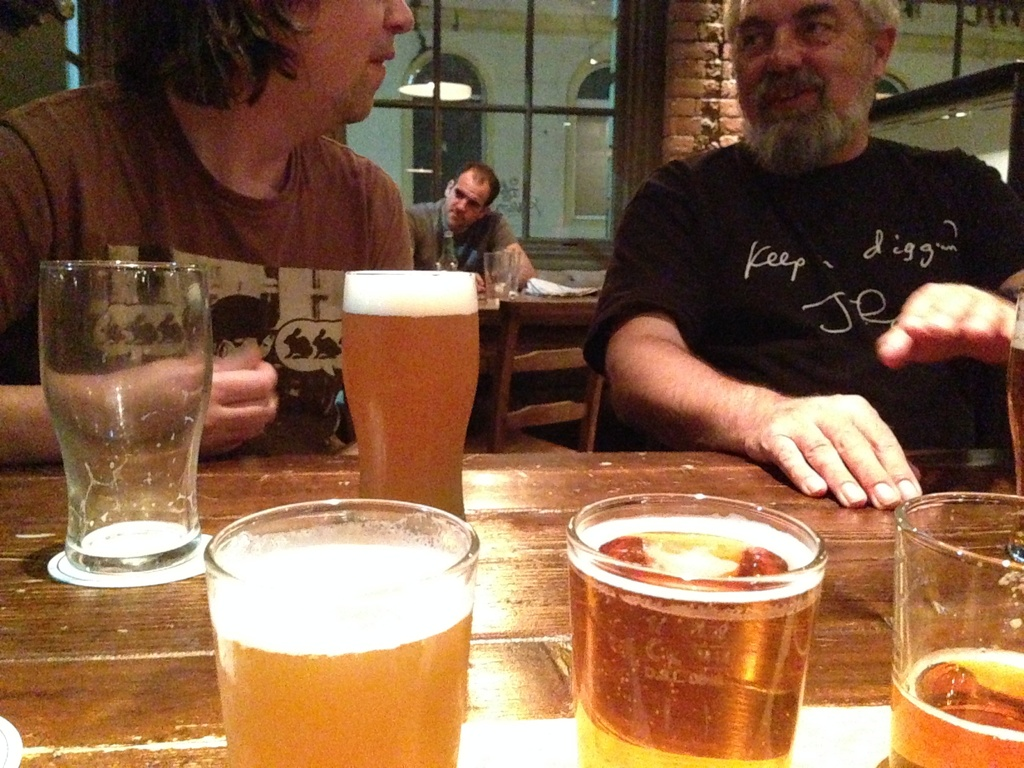Beer: (204, 490, 484, 767), (568, 481, 811, 767), (29, 254, 211, 581), (874, 480, 1023, 767), (334, 266, 490, 529)
